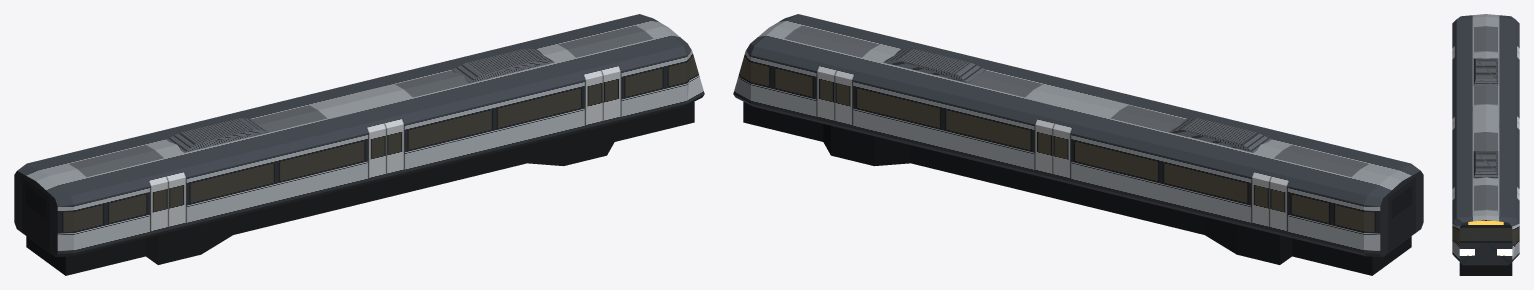
The model's file is wmata_generic__cab.glb.
3 renders of one model, left to right at view 1: azimuth 30°, elevation 25°; view 2: azimuth 150°, elevation 25°; view 3: azimuth 270°, elevation 25°, orthographic. The views are drawn at different scales.
Visible parts, largest first — view 1: wmata_generic__cab; view 2: wmata_generic__cab; view 3: wmata_generic__cab.
Boxes of the visible parts, <box> form: wmata_generic__cab: <box>14,14,704,275</box>; wmata_generic__cab: <box>733,14,1423,275</box>; wmata_generic__cab: <box>1452,14,1519,275</box>.
Bounding box in the file's own units: 22.86 × 3.3 × 3.09.
Materials: 1 (1 with a texture image).
